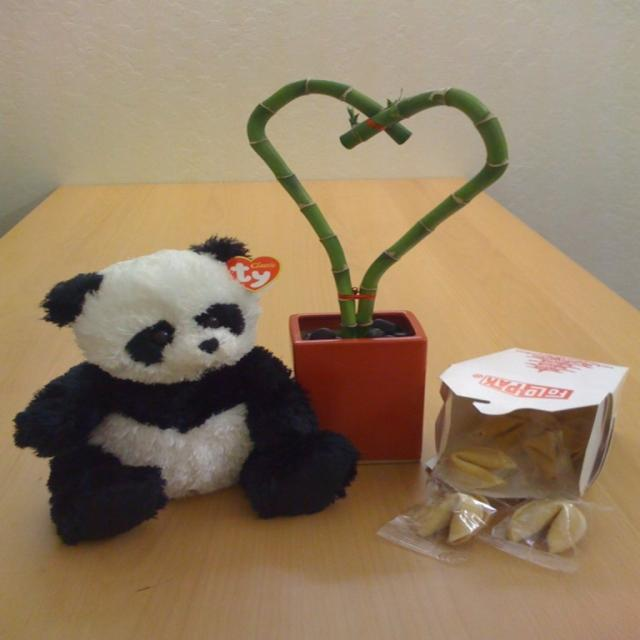panda: (14, 235, 363, 551)
